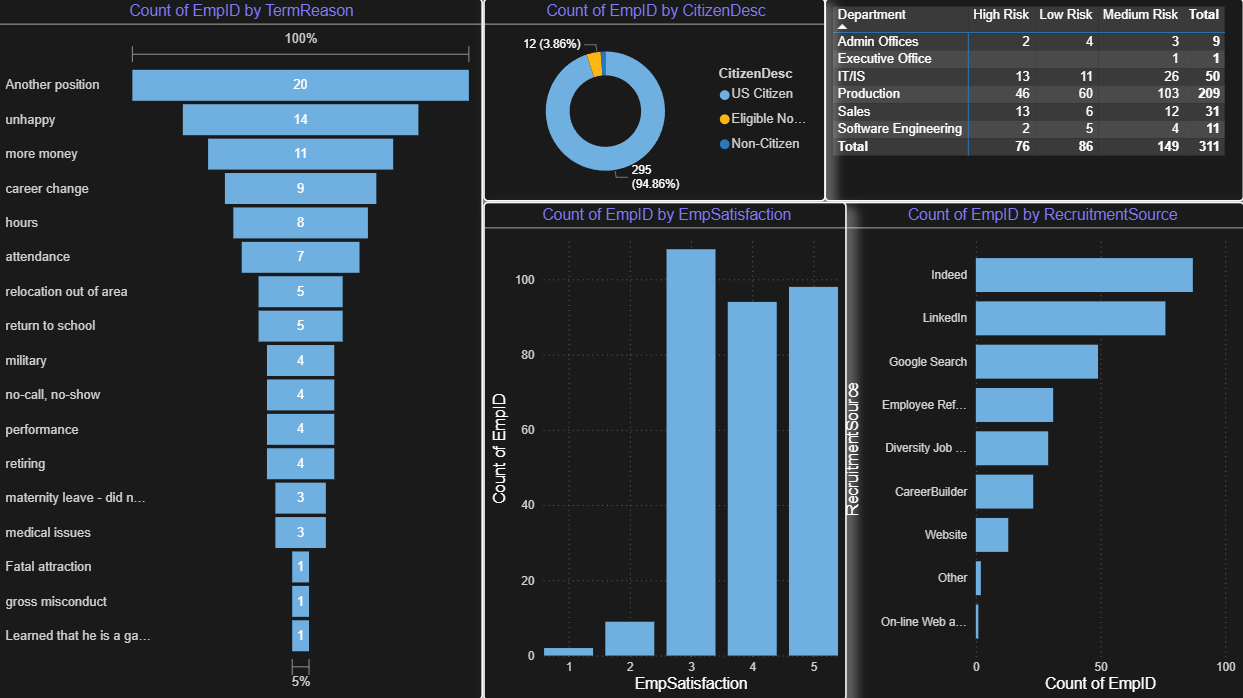

Layout of this report page (visuals, bound fields, positions):
{"tool":"powerbi","page":{"name":"Page 2","canvas":[1280,720],"ordinal":1},"visuals":[{"type":"funnel","fields":{"Y":["CountNonNull(HRDataset_v14 (2).EmpID)"],"Category":["HRDataset_v14 (2).TermReason"]},"box":[0,0,498.2,720.2],"z":0},{"type":"pivotTable","fields":{"Rows":["HRDataset_v14 (2).Department"],"Columns":["HRDataset_v14 (2).Employee Absence Risk"],"Values":["Count(HRDataset_v14 (2).EmpID)"]},"box":[849.1,0,430.7,208.6],"z":1000},{"type":"barChart","fields":{"Category":["HRDataset_v14 (2).RecruitmentSource"],"Y":["CountNonNull(HRDataset_v14 (2).EmpID)"]},"box":[861.4,208.6,418.4,511.7],"z":2000},{"type":"donutChart","fields":{"Category":["HRDataset_v14 (2).CitizenDesc"],"Y":["CountNonNull(HRDataset_v14 (2).EmpID)"]},"box":[498.2,0,350.9,208.6],"z":3000},{"type":"columnChart","fields":{"Category":["HRDataset_v14 (2).EmpSatisfaction"],"Y":["CountNonNull(HRDataset_v14 (2).EmpID)"]},"box":[498.2,208.6,373,511.7],"z":4000}]}

Visuals, with their boxes in screenshot pixels (x1, y1, x2, y2), scaled from the page's 1280x720 canvas onto the 1243x698 screenshot:
funnel - CountNonNull(HRDataset_v14 (2).EmpID) x HRDataset_v14 (2).TermReason: l=0, t=0, r=484, b=697
pivotTable - HRDataset_v14 (2).Department x HRDataset_v14 (2).Employee Absence Risk: l=825, t=0, r=1242, b=202
barChart - HRDataset_v14 (2).RecruitmentSource x CountNonNull(HRDataset_v14 (2).EmpID): l=837, t=202, r=1242, b=697
donutChart - HRDataset_v14 (2).CitizenDesc x CountNonNull(HRDataset_v14 (2).EmpID): l=484, t=0, r=825, b=202
columnChart - HRDataset_v14 (2).EmpSatisfaction x CountNonNull(HRDataset_v14 (2).EmpID): l=484, t=202, r=846, b=697
